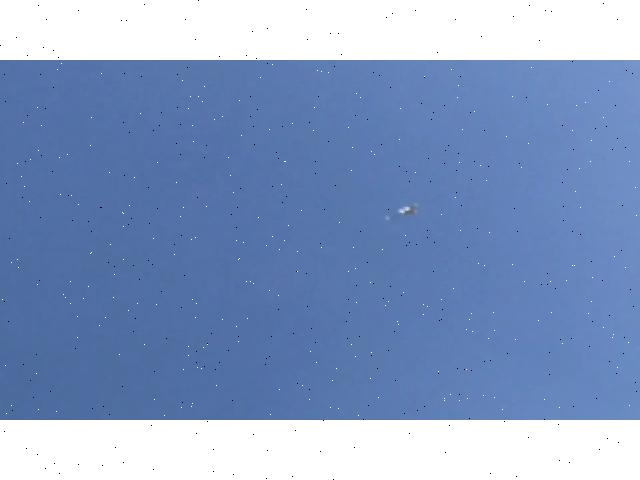Anti-Drone: (364, 187, 436, 235)
